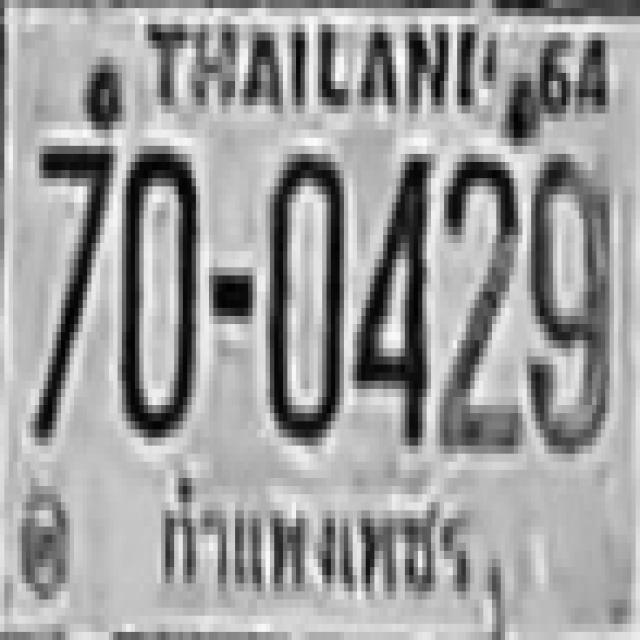0: (117, 138, 196, 429), (266, 146, 340, 437)
2: (439, 146, 514, 445)
4: (352, 146, 427, 437)
7: (33, 138, 111, 437)
9: (525, 146, 607, 445)
KamphaengPhet: (150, 471, 477, 609)
